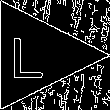L_N: (19, 30, 54, 80)
